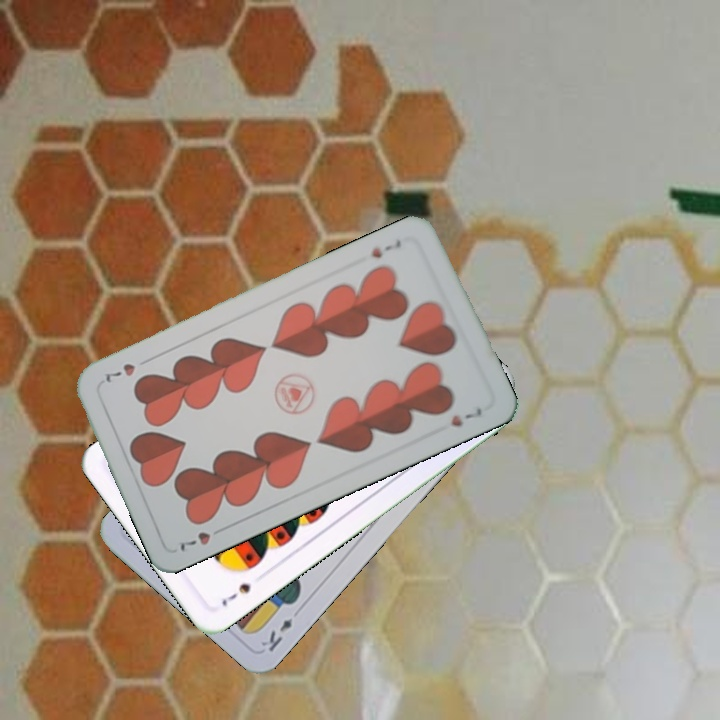EK: (257, 614, 295, 654)
H7: (175, 523, 229, 555), (367, 236, 404, 261)
S7: (217, 579, 254, 609)
